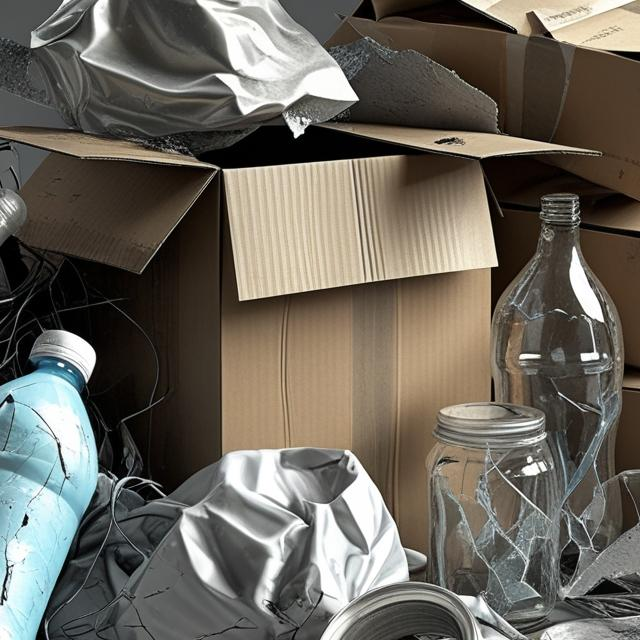plastic: (0, 335, 95, 640)
